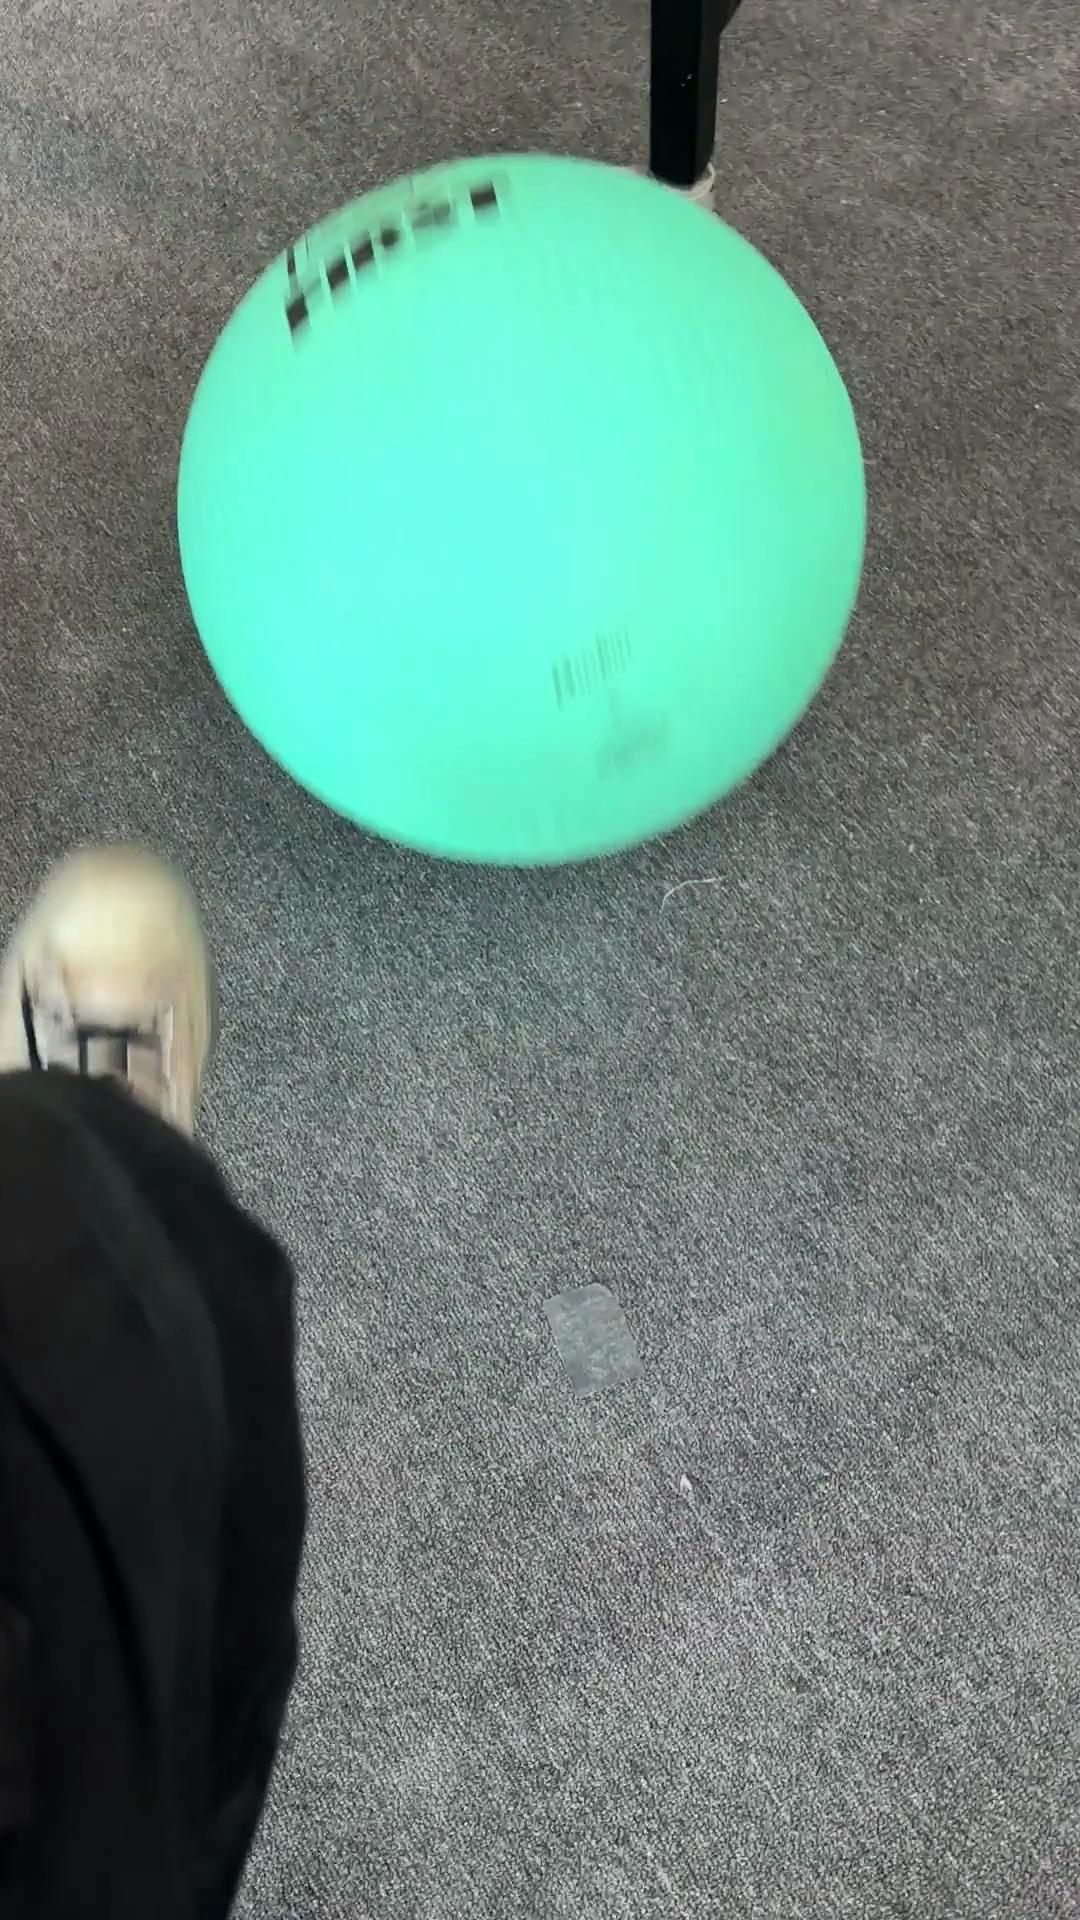ALGAE: (173, 148, 870, 870)
